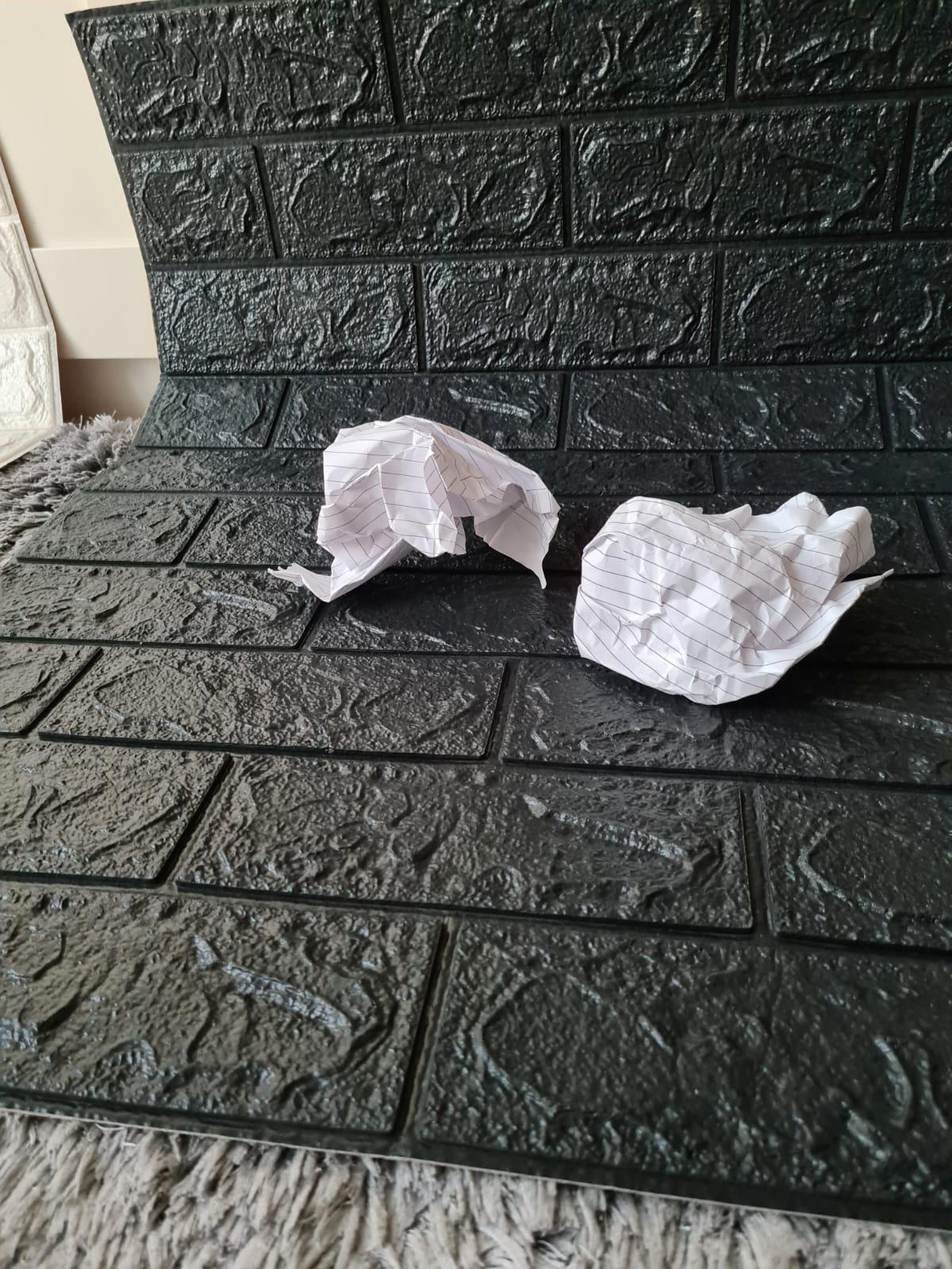paper: (564, 500, 893, 699), (313, 418, 553, 616)
